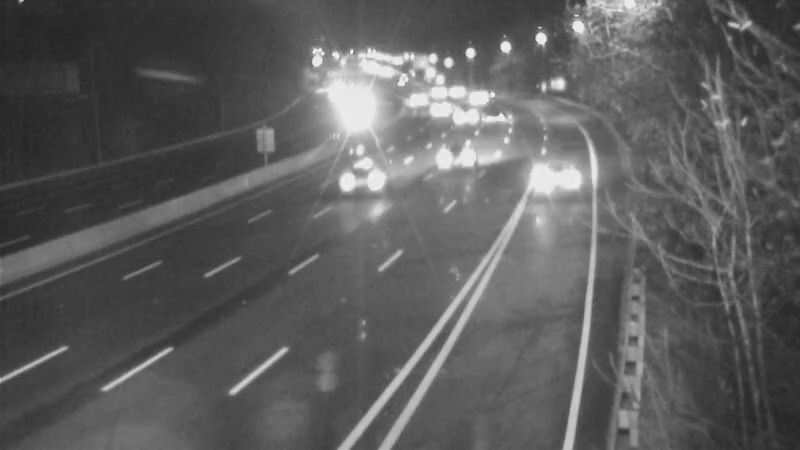vehicle: (419, 122, 499, 202), (327, 136, 407, 216), (515, 130, 595, 210), (417, 68, 467, 118), (458, 73, 508, 123), (391, 72, 441, 122), (411, 85, 461, 135), (442, 87, 492, 137), (465, 90, 515, 140), (329, 92, 379, 142)
